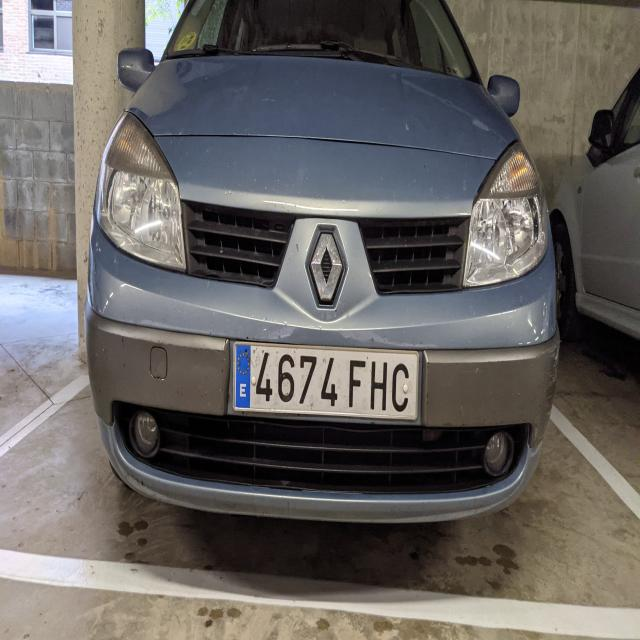license_plate-34Td: (232, 342, 419, 420)
